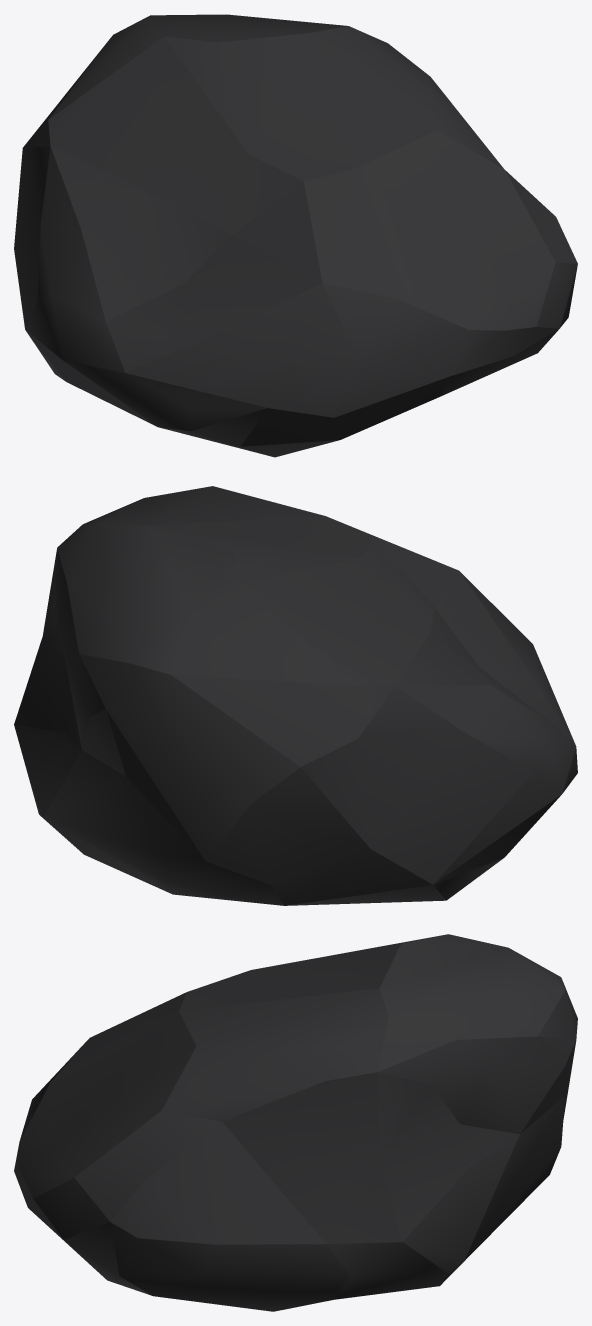
File: Rock.001.fbx
The picture shows the model from 3 angles, top to bottom: view 1: azimuth 30°, elevation 25°; view 2: azimuth 150°, elevation 25°; view 3: azimuth 270°, elevation 25°; orthographic projection. The views are drawn at different scales.
Parts seen in each view (by area): view 1: rock.001; view 2: rock.001; view 3: rock.001.
Part boxes in pixels (box(x1,y1,x2,y2)): rock.001: box(14, 14, 577, 457); rock.001: box(14, 486, 577, 905); rock.001: box(14, 934, 577, 1311).
Bounding box in the file's own units: 95.7 × 63.26 × 101.
